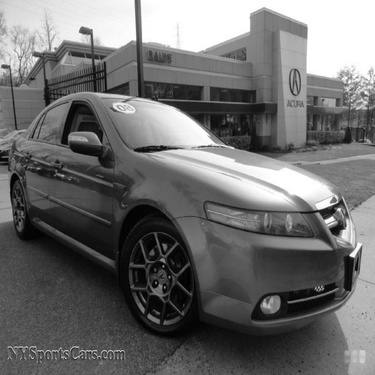car: (1, 83, 369, 345), (1, 123, 47, 161)
